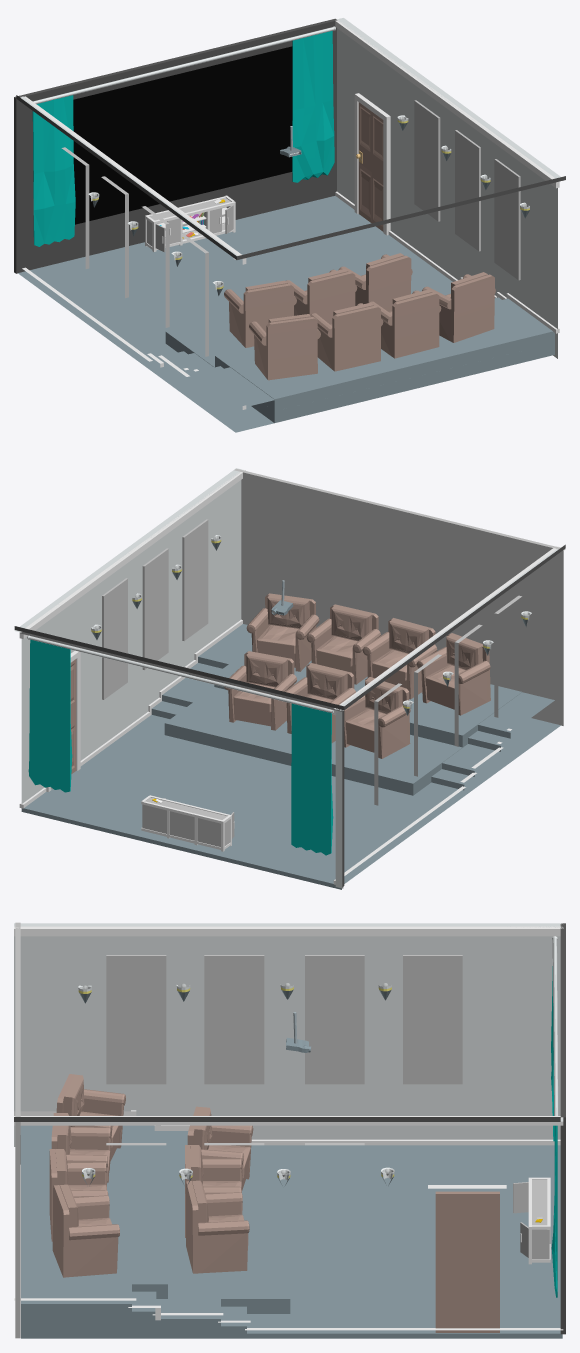
File: home-theater2.glb
3 renders of one model, top to bottom at view 1: azimuth 30°, elevation 25°; view 2: azimuth 150°, elevation 25°; view 3: azimuth 270°, elevation 25°, orthographic. The views are drawn at different scales.
Visible parts, largest first — view 1: mesh2057757694; view 2: mesh2057757694; view 3: mesh2057757694.
Boxes of the visible parts, left/top/right/bottom form: mesh2057757694: left=14, top=18, right=565, bottom=432; mesh2057757694: left=14, top=468, right=565, bottom=889; mesh2057757694: left=14, top=922, right=565, bottom=1338.
Bounding box in the file's own units: 17.35 × 9.48 × 20.3.
